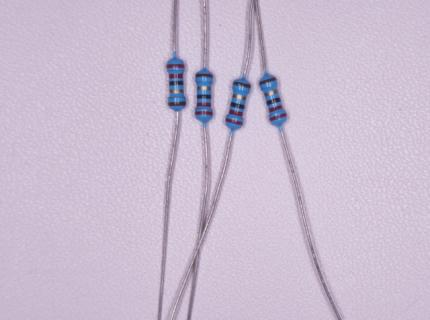Black band: (230, 101, 245, 110), (266, 97, 281, 106), (169, 81, 184, 86), (197, 94, 212, 99)
Brown band: (232, 80, 251, 89), (259, 77, 277, 86), (167, 101, 187, 106), (195, 73, 214, 78)
Gold band: (264, 89, 279, 97), (232, 94, 246, 101), (197, 86, 212, 91), (169, 89, 184, 93)
Red band: (269, 113, 288, 122), (225, 117, 243, 126), (268, 104, 283, 113), (227, 109, 243, 117), (166, 64, 185, 69), (195, 111, 213, 116), (169, 73, 184, 79), (197, 102, 211, 107)
